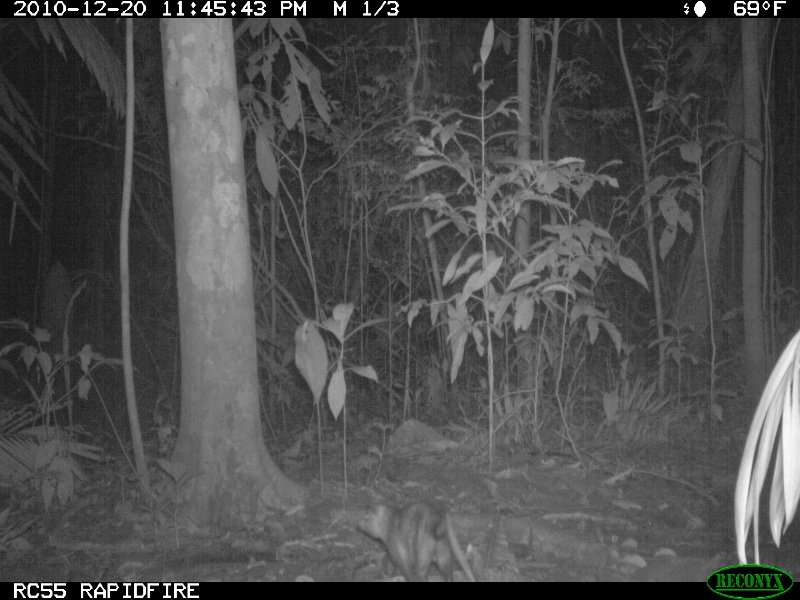opossum: (356, 501, 481, 581)
